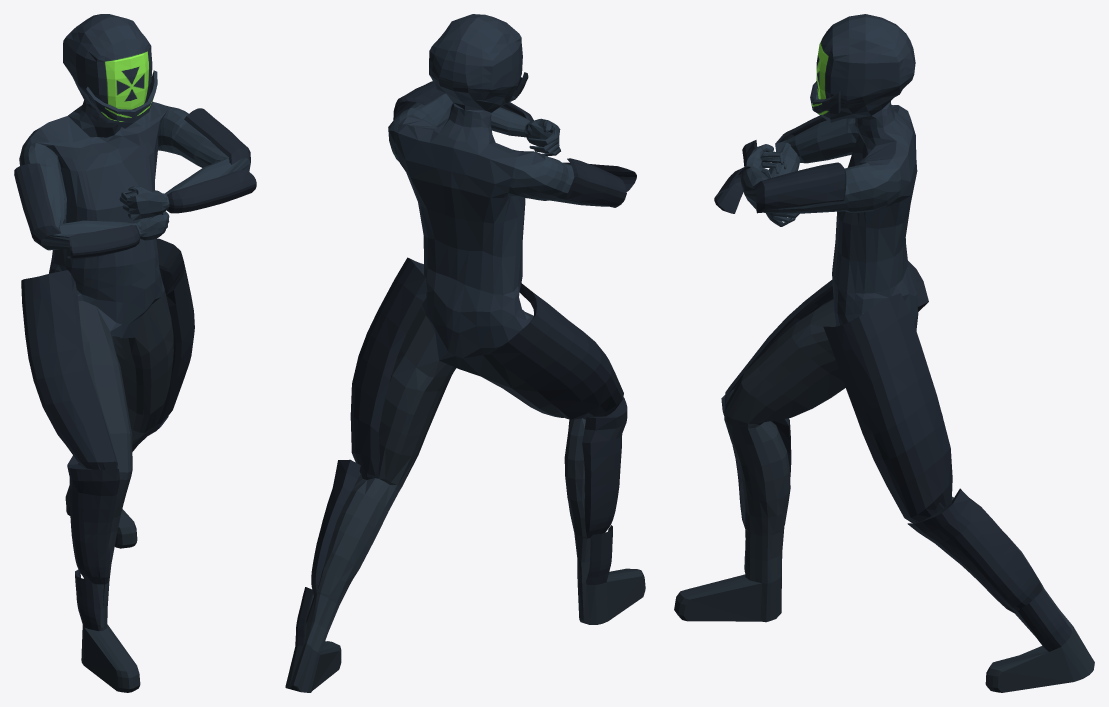
File: Bastion_WL_000026.obj
The picture shows the model from 3 angles, left to right: view 1: azimuth 30°, elevation 25°; view 2: azimuth 150°, elevation 25°; view 3: azimuth 270°, elevation 25°; orthographic projection. The views are drawn at different scales.
Visible parts, largest first — view 1: Cube.002; view 2: Cube.002; view 3: Cube.002.
Part boxes in pixels (left/top/right/bottom): Cube.002: left=14, top=14, right=256, bottom=692; Cube.002: left=285, top=14, right=645, bottom=692; Cube.002: left=674, top=14, right=1094, bottom=692.
Size of the model in its own units: 1.32 by 3.58 by 2.16.
